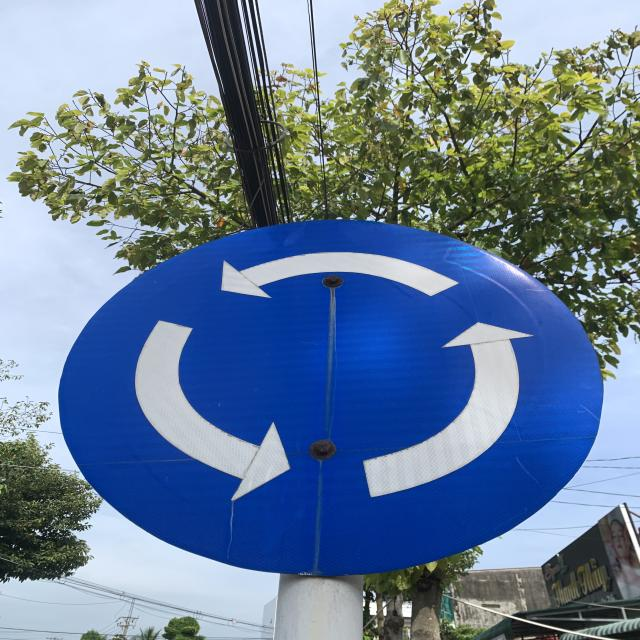Xe_Bus: (61, 218, 610, 574)
